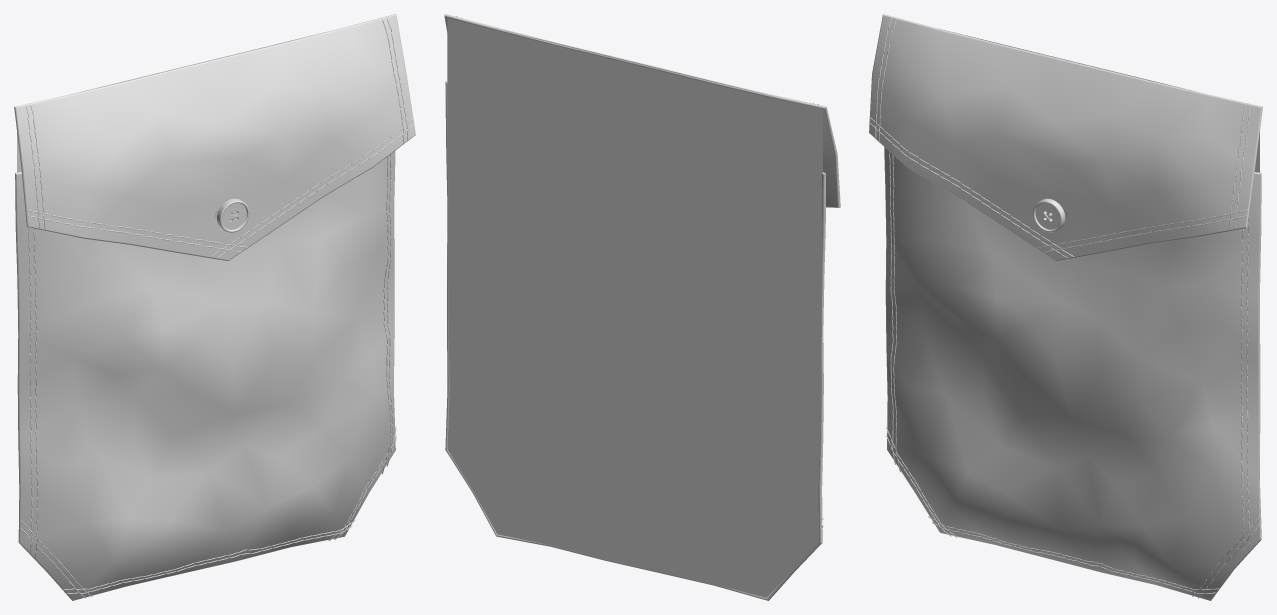
The model's file is карман 4.glb.
The picture shows the model from 3 angles, left to right: view 1: azimuth 30°, elevation 25°; view 2: azimuth 150°, elevation 25°; view 3: azimuth 330°, elevation 25°; orthographic projection.
Parts seen in each view (by area): view 1: Pattern_2578442_Node, Pattern_2587001_Node, StitchMatShape_2751786_Node, MatShape_2593107_Node; view 2: Pattern_2533082_Node.004, Pattern_2578442_Node, Pattern_2587001_Node; view 3: Pattern_2578442_Node, Pattern_2587001_Node, StitchMatShape_2751786_Node, MatShape_2593107_Node.
Part boxes in pixels (bbox=[...]): Pattern_2578442_Node: bbox=[15, 150, 395, 600]; Pattern_2587001_Node: bbox=[14, 14, 415, 260]; StitchMatShape_2751786_Node: bbox=[21, 18, 414, 598]; MatShape_2593107_Node: bbox=[216, 198, 249, 232]; Pattern_2533082_Node.004: bbox=[447, 18, 822, 597]; Pattern_2578442_Node: bbox=[445, 81, 825, 600]; Pattern_2587001_Node: bbox=[444, 14, 840, 207]; Pattern_2578442_Node: bbox=[884, 147, 1261, 600]; Pattern_2587001_Node: bbox=[869, 14, 1262, 261]; StitchMatShape_2751786_Node: bbox=[869, 18, 1259, 598]; MatShape_2593107_Node: bbox=[1033, 198, 1065, 232].
Size of the model in its own units: 0.0647 by 0.0818 by 0.00842.
Materials: 7 (2 with a texture image).
